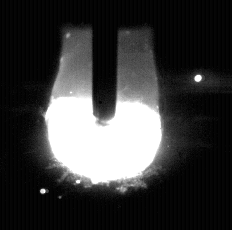arame: (92, 0, 118, 127)
poca: (46, 0, 162, 230)
